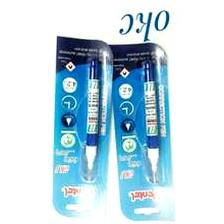book: (101, 40, 177, 223), (51, 33, 115, 224)
correction_fluid: (78, 55, 103, 184), (140, 58, 163, 186)
